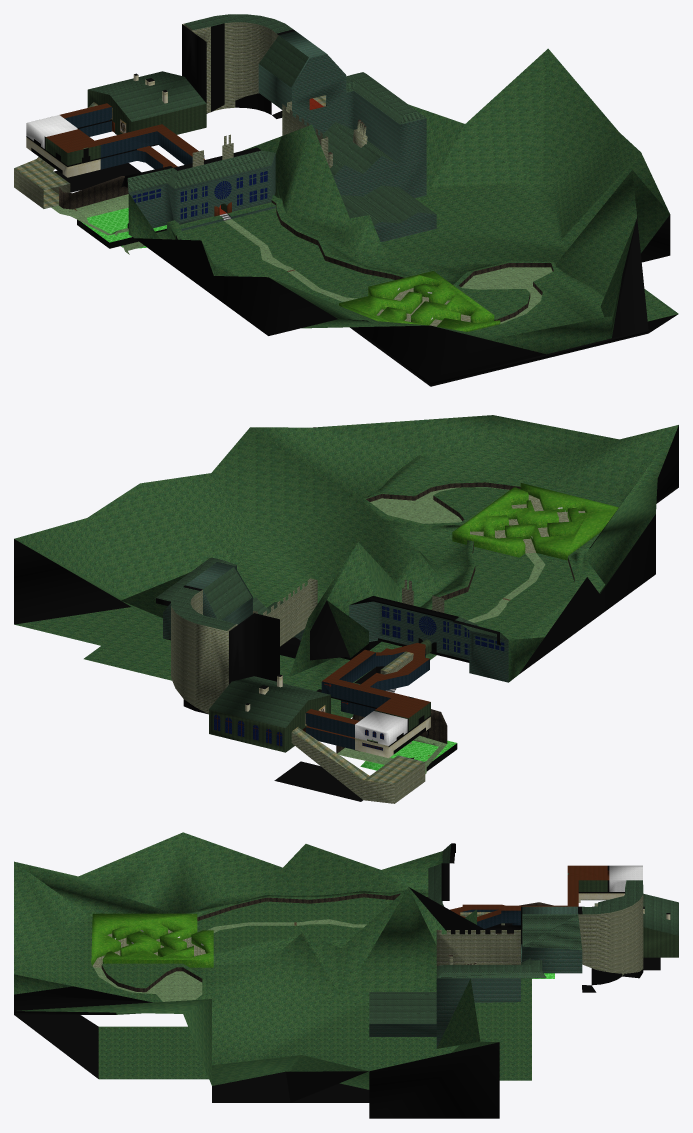
The picture shows the model from 3 angles, top to bottom: view 1: azimuth 30°, elevation 25°; view 2: azimuth 150°, elevation 25°; view 3: azimuth 270°, elevation 25°; orthographic projection. The views are drawn at different scales.
Parts seen in each view (by area): view 1: bruh-GRP-Cpourse_Main-grass-63742-mat2, bruh-GRP-Cpourse_Main-Default_Material-63741-mat1, bruh-GRP-Cpourse_Main-mansion-63746-mat6, bruh-GRP-Cpourse_Main-roof-63748-mat8, bruh-GRP-Cpourse_Main-chamberwall-63747-mat7, bruh-GRP-Cpourse_Main-Bush-63745-mat5, bruh-GRP-Cpourse_Main-sand-63749-mat9, bruh-GRP-Cpourse_Main-Hallway-63753-mat13, bruh-GRP-Cpourse_Main-Ballroom_Bedroom-63754-mat14, bruh-GRP-Cpourse_Main-cave_wall-63743-mat3, bruh-GRP-Cpourse_Main-Wood-63757-mat17, bruh-GRP-Cpourse_Main-window-63761-mat21 (+4 smaller); view 2: bruh-GRP-Cpourse_Main-grass-63742-mat2, bruh-GRP-Cpourse_Main-Default_Material-63741-mat1, bruh-GRP-Cpourse_Main-chamberwall-63747-mat7, bruh-GRP-Cpourse_Main-Bush-63745-mat5, bruh-GRP-Cpourse_Main-roof-63748-mat8, bruh-GRP-Cpourse_Main-mansion-63746-mat6, bruh-GRP-Cpourse_Main-Hallway-63753-mat13, bruh-GRP-Cpourse_Main-sand-63749-mat9, bruh-GRP-Cpourse_Main-Wood-63757-mat17, bruh-GRP-Cpourse_Main-Ballroom_Bedroom-63754-mat14, bruh-GRP-Cpourse_Main-window-63761-mat21, bruh-GRP-Cpourse_Main-chamber_road-63744-mat4 (+4 smaller); view 3: bruh-GRP-Cpourse_Main-grass-63742-mat2, bruh-GRP-Cpourse_Main-Default_Material-63741-mat1, bruh-GRP-Cpourse_Main-roof-63748-mat8, bruh-GRP-Cpourse_Main-chamberwall-63747-mat7, bruh-GRP-Cpourse_Main-Bush-63745-mat5, bruh-GRP-Cpourse_Main-mansion-63746-mat6, bruh-GRP-Cpourse_Main-sand-63749-mat9, bruh-GRP-Cpourse_Main-Wood-63757-mat17, bruh-GRP-Cpourse_Main-cave_wall-63743-mat3, bruh-GRP-Cpourse_Main-Ballroom_Bedroom-63754-mat14, bruh-GRP-Cpourse_Main-Ballroom_bathroom-63755-mat15, bruh-GRP-Cpourse_Main-Hallway-63753-mat13.
Part boxes in pixels (left/top/right/bottom): bruh-GRP-Cpourse_Main-grass-63742-mat2: left=128, top=48, right=678, bottom=354; bruh-GRP-Cpourse_Main-Default_Material-63741-mat1: left=26, top=23, right=678, bottom=386; bruh-GRP-Cpourse_Main-mansion-63746-mat6: left=129, top=31, right=436, bottom=242; bruh-GRP-Cpourse_Main-roof-63748-mat8: left=88, top=14, right=435, bottom=225; bruh-GRP-Cpourse_Main-chamberwall-63747-mat7: left=14, top=22, right=470, bottom=326; bruh-GRP-Cpourse_Main-Bush-63745-mat5: left=339, top=271, right=500, bottom=331; bruh-GRP-Cpourse_Main-sand-63749-mat9: left=51, top=147, right=552, bottom=323; bruh-GRP-Cpourse_Main-Hallway-63753-mat13: left=64, top=107, right=204, bottom=169; bruh-GRP-Cpourse_Main-Ballroom_Bedroom-63754-mat14: left=45, top=89, right=226, bottom=212; bruh-GRP-Cpourse_Main-cave_wall-63743-mat3: left=59, top=119, right=553, bottom=322; bruh-GRP-Cpourse_Main-Wood-63757-mat17: left=46, top=103, right=231, bottom=216; bruh-GRP-Cpourse_Main-window-63761-mat21: left=132, top=171, right=267, bottom=219; bruh-GRP-Cpourse_Main-grass-63742-mat2: left=14, top=415, right=678, bottom=718; bruh-GRP-Cpourse_Main-Default_Material-63741-mat1: left=14, top=425, right=678, bottom=801; bruh-GRP-Cpourse_Main-chamberwall-63747-mat7: left=171, top=495, right=585, bottom=803; bruh-GRP-Cpourse_Main-Bush-63745-mat5: left=452, top=483, right=618, bottom=560; bruh-GRP-Cpourse_Main-roof-63748-mat8: left=150, top=557, right=508, bottom=727; bruh-GRP-Cpourse_Main-mansion-63746-mat6: left=163, top=562, right=508, bottom=682; bruh-GRP-Cpourse_Main-Hallway-63753-mat13: left=305, top=649, right=429, bottom=749; bruh-GRP-Cpourse_Main-sand-63749-mat9: left=337, top=487, right=545, bottom=773; bruh-GRP-Cpourse_Main-Wood-63757-mat17: left=214, top=642, right=430, bottom=749; bruh-GRP-Cpourse_Main-Ballroom_Bedroom-63754-mat14: left=209, top=639, right=431, bottom=752; bruh-GRP-Cpourse_Main-window-63761-mat21: left=214, top=606, right=504, bottom=750; bruh-GRP-Cpourse_Main-chamber_road-63744-mat4: left=292, top=651, right=424, bottom=784; bruh-GRP-Cpourse_Main-grass-63742-mat2: left=14, top=832, right=531, bottom=1089; bruh-GRP-Cpourse_Main-Default_Material-63741-mat1: left=14, top=843, right=670, bottom=1118; bruh-GRP-Cpourse_Main-roof-63748-mat8: left=369, top=844, right=678, bottom=1023; bruh-GRP-Cpourse_Main-chamberwall-63747-mat7: left=92, top=894, right=643, bottom=975; bruh-GRP-Cpourse_Main-Bush-63745-mat5: left=91, top=913, right=213, bottom=967; bruh-GRP-Cpourse_Main-mansion-63746-mat6: left=369, top=901, right=582, bottom=1047; bruh-GRP-Cpourse_Main-sand-63749-mat9: left=94, top=873, right=568, bottom=1001; bruh-GRP-Cpourse_Main-Wood-63757-mat17: left=450, top=865, right=609, bottom=921; bruh-GRP-Cpourse_Main-cave_wall-63743-mat3: left=101, top=893, right=593, bottom=992; bruh-GRP-Cpourse_Main-Ballroom_Bedroom-63754-mat14: left=578, top=880, right=678, bottom=957; bruh-GRP-Cpourse_Main-Ballroom_bathroom-63755-mat15: left=609, top=865, right=642, bottom=891; bruh-GRP-Cpourse_Main-Hallway-63753-mat13: left=460, top=909, right=520, bottom=928.
Bounding box in the file's own units: 109529 × 35191 × 152194.
Materials: 29 (28 with a texture image).
